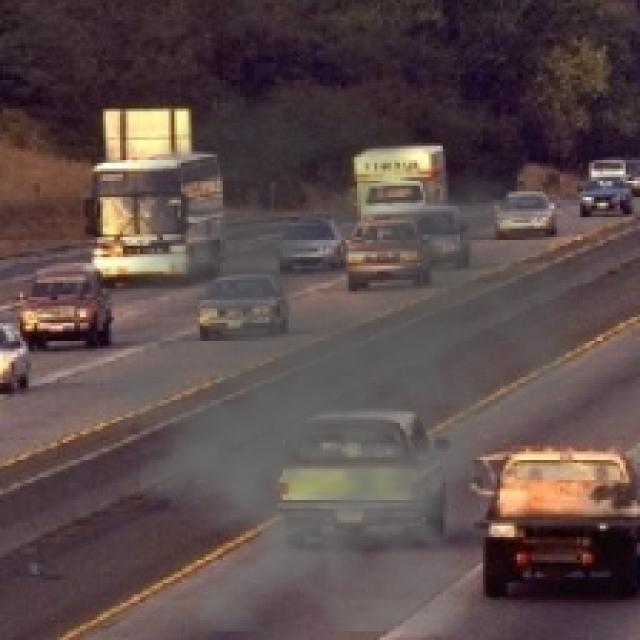smoke: (37, 83, 606, 631)
